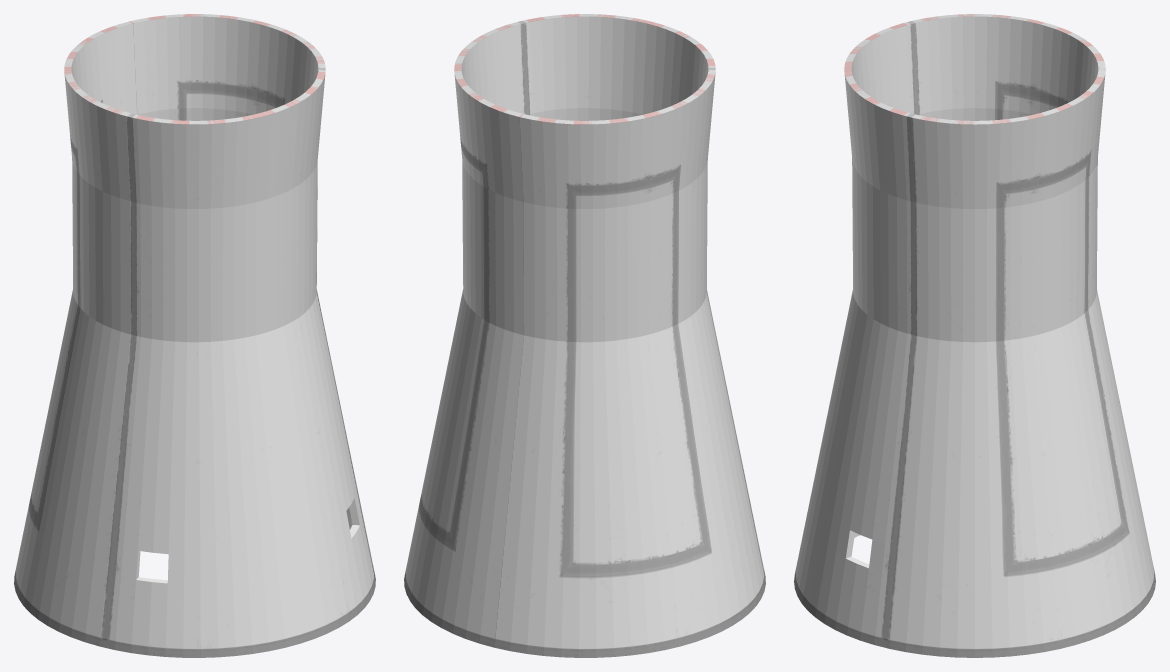
The model's file is SM_BrushReactor_Concrete_CoolantTower_CC.fbx.
3 renders of one model, left to right at view 1: azimuth 30°, elevation 25°; view 2: azimuth 150°, elevation 25°; view 3: azimuth 270°, elevation 25°, orthographic.
Parts seen in each view (by area): view 1: CC_CoolantTower; view 2: CC_CoolantTower; view 3: CC_CoolantTower.
Boxes of the visible parts, x1,y1,x2,y2 form: CC_CoolantTower: (14,14,375,657); CC_CoolantTower: (404,14,765,657); CC_CoolantTower: (794,14,1155,657).
Size of the model in its own units: 6200 by 9723 by 6200.
